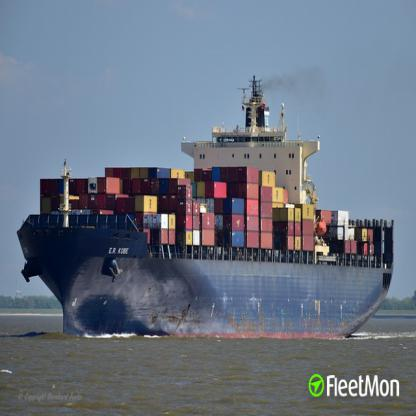Merchant Ship: (17, 74, 394, 336)
